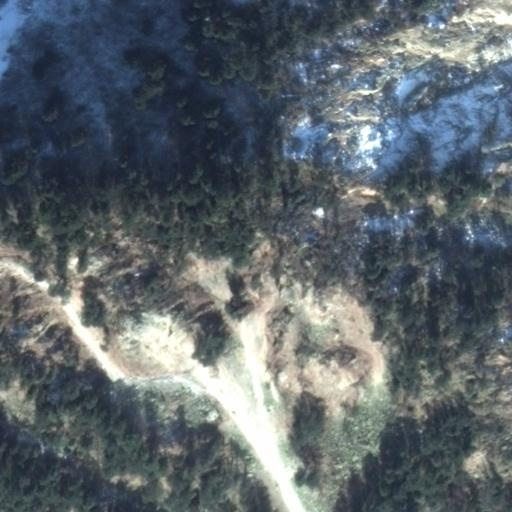landslide: (10, 253, 388, 512)
